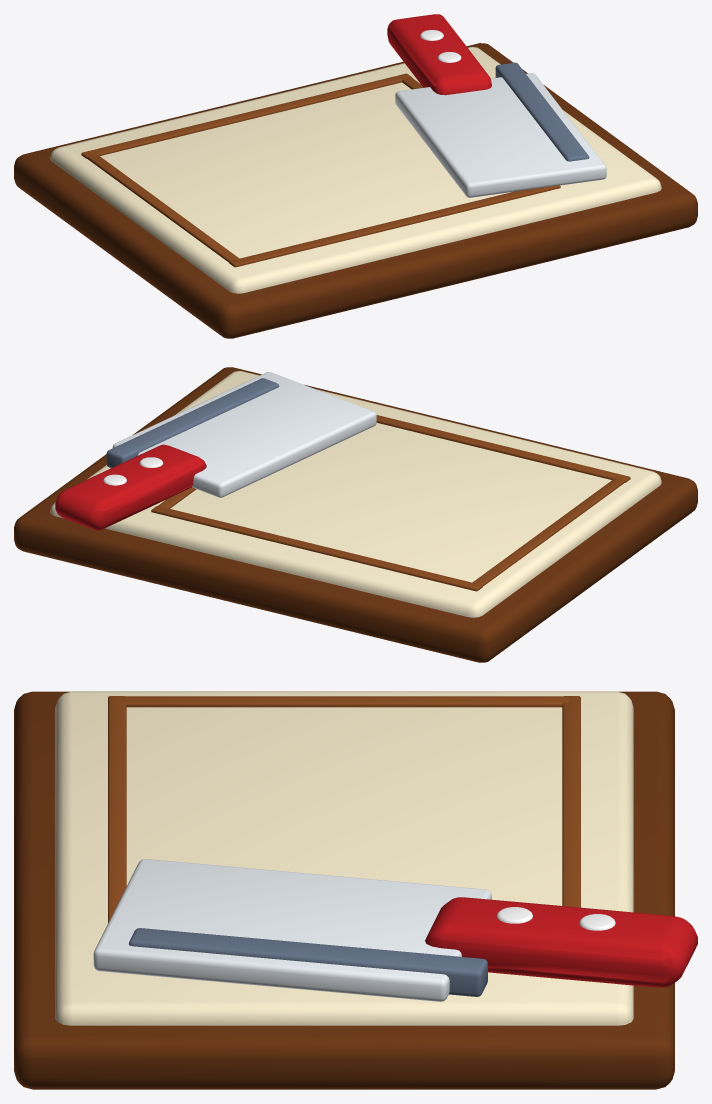
File: cutting-board.glb
The picture shows the model from 3 angles, top to bottom: view 1: azimuth 30°, elevation 25°; view 2: azimuth 150°, elevation 25°; view 3: azimuth 270°, elevation 25°; orthographic projection. The views are drawn at different scales.
Visible parts, largest first — view 1: CuttingBoardWalnutFrame; view 2: CuttingBoardWalnutFrame; view 3: CuttingBoardWalnutFrame.
Boxes of the visible parts, <box> form: CuttingBoardWalnutFrame: <box>14,14,697,338</box>; CuttingBoardWalnutFrame: <box>14,367,697,662</box>; CuttingBoardWalnutFrame: <box>14,691,697,1089</box>.
Bounding box in the file's own units: 0.82 × 0.123 × 0.6623.
